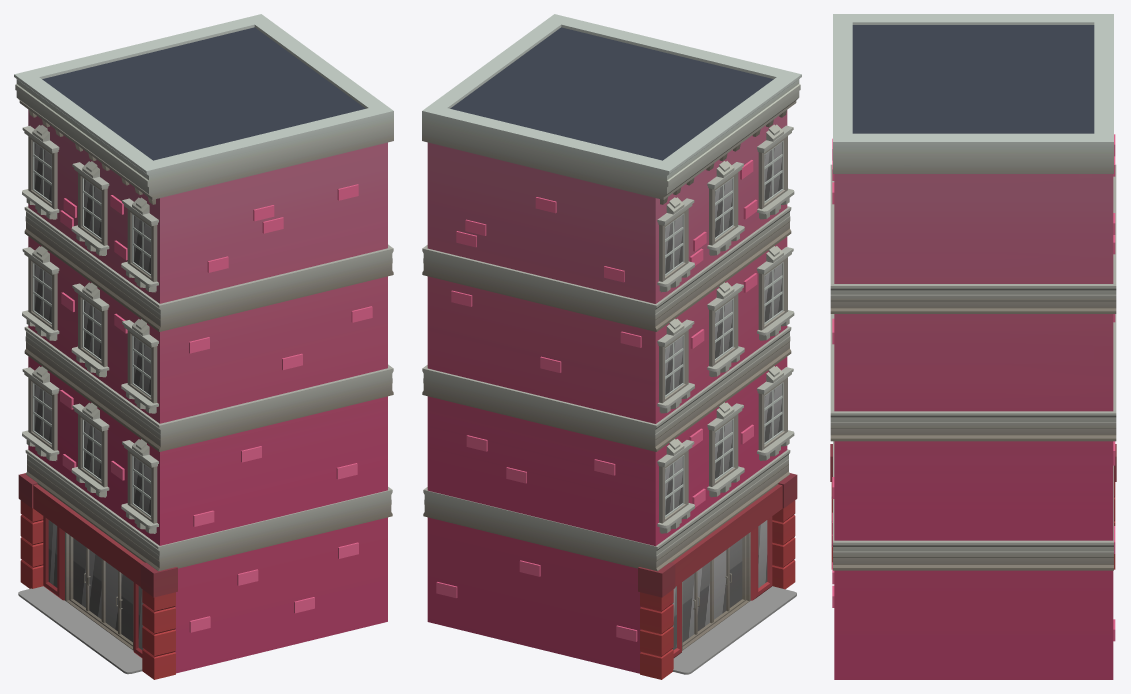
File: Building_21_2_C.fbx
3 renders of one model, left to right at view 1: azimuth 30°, elevation 25°; view 2: azimuth 150°, elevation 25°; view 3: azimuth 270°, elevation 25°, orthographic. The views are drawn at different scales.
Visible parts, largest first — view 1: Building_21_2_C; view 2: Building_21_2_C; view 3: Building_21_2_C.
Boxes of the visible parts, box(x1,y1,x2,y2) form: Building_21_2_C: box(14, 14, 393, 679); Building_21_2_C: box(422, 14, 801, 679); Building_21_2_C: box(830, 14, 1116, 679).
Size of the model in its own units: 779 by 1485 by 713.
